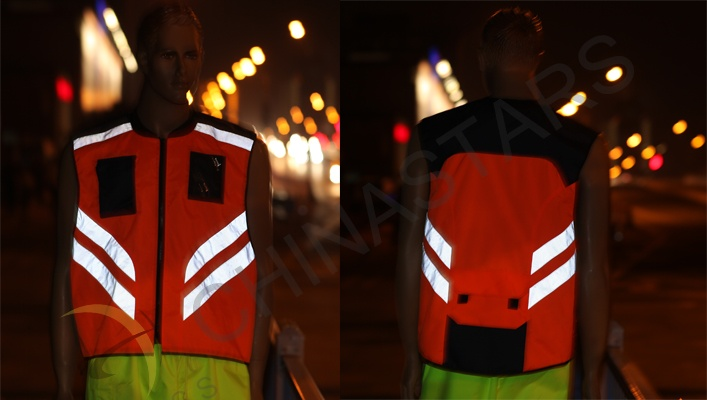person with partial safety: (70, 11, 273, 395), (429, 15, 598, 395)
safety vest: (74, 125, 252, 368), (426, 105, 580, 374)
